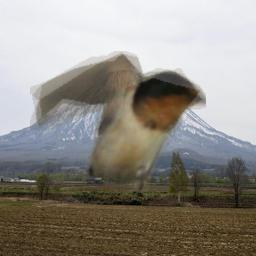Swallow: (30, 51, 206, 192)
